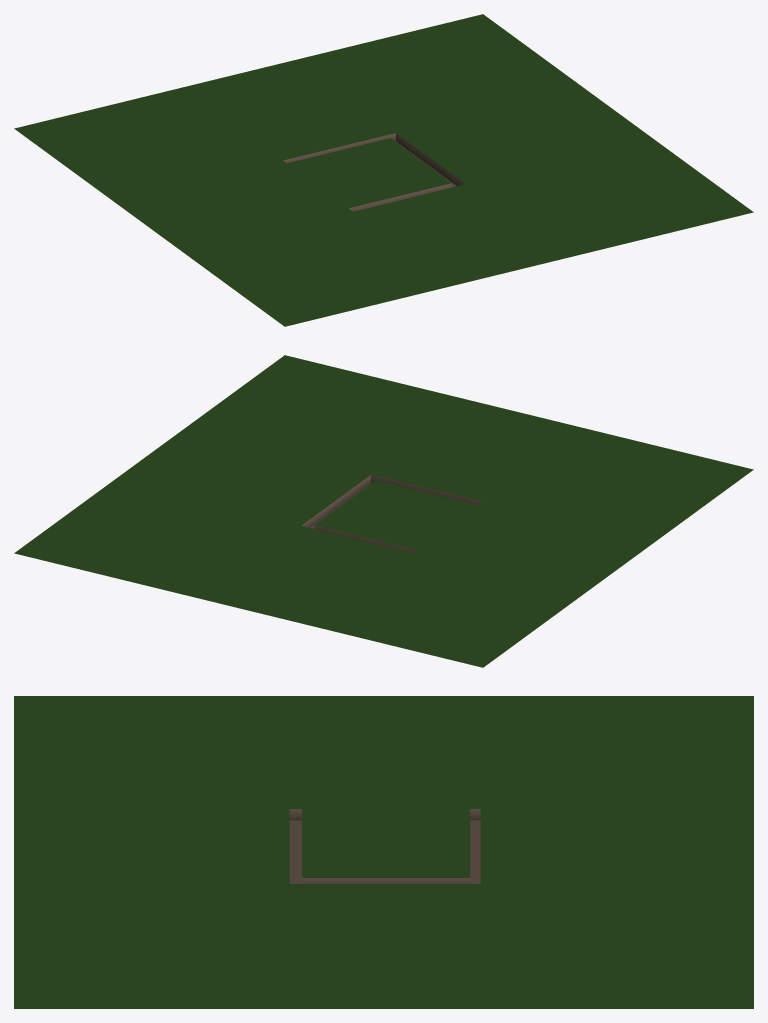
Rendered from WithHoles.fbx.
3 renders of one model, top to bottom at view 1: azimuth 30°, elevation 25°; view 2: azimuth 150°, elevation 25°; view 3: azimuth 270°, elevation 25°, orthographic. The views are drawn at different scales.
Visible parts, largest first — view 1: Plane; view 2: Plane; view 3: Plane.
Part boxes in pixels (x1=…): Plane: x1=14, y1=14, x2=753, y2=326; Plane: x1=14, y1=355, x2=753, y2=667; Plane: x1=14, y1=696, x2=753, y2=1008.
Size of the model in its own units: 230 by 230 by 3.94.
